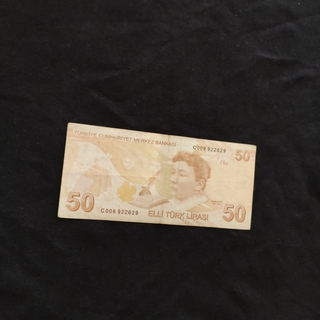50TLBack: (56, 122, 257, 230)
